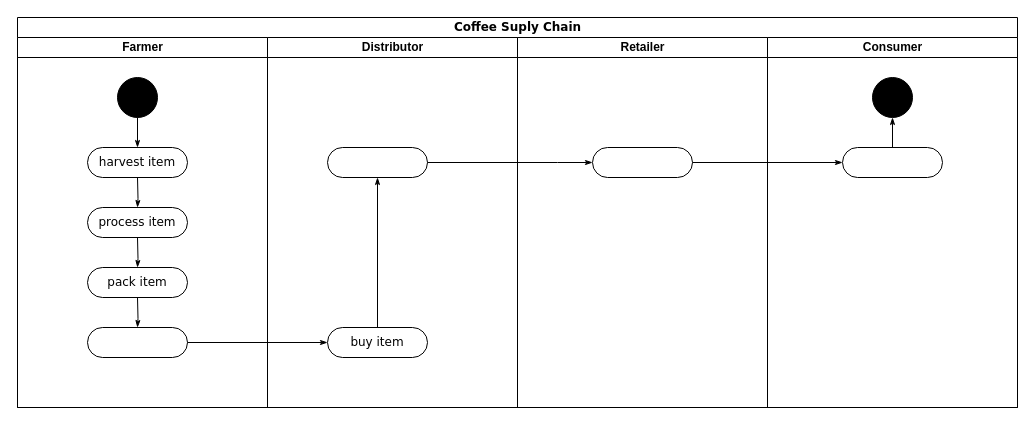
Some shapes in this 1035 by 425 pixel diagram are drawn without their labels. The shapes that lost their labels are listed below. From the top down, each one's centre as x and y in pixels, then its label:
(x=377, y=162): ship item
(x=642, y=162): receive item
(x=892, y=162): purchase item
(x=137, y=342): sale item
